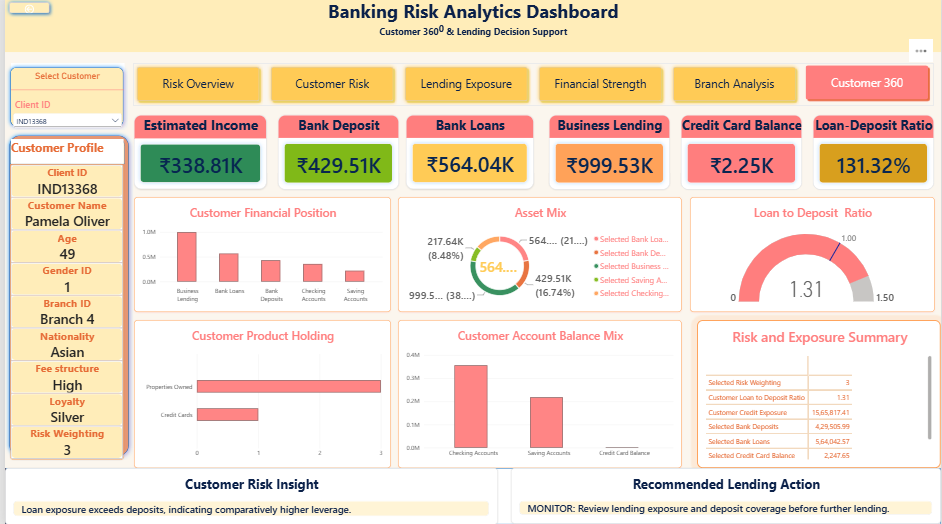

This screenshot's page, from the dashboard's own definition file:
{"tool":"powerbi","page":{"name":"Customer 360","canvas":[1920,1080],"ordinal":5},"visuals":[{"type":"shape","box":[0,0,1920,110.9],"z":0},{"type":"pageNavigator","box":[262.2,134.2,1643.4,86.7],"z":1000},{"type":"shape","box":[12.4,315.9,233.3,609],"z":2000},{"type":"shape","box":[0,272.9,263.1,675.5],"z":3000},{"type":"clusteredColumnChart","title":"Customer Financial Position","fields":{"Category":["Financial Metric.Metric"],"Y":["Measure.Selected Financial Value"]},"box":[263.7,407.2,527.5,236.3],"z":4000},{"type":"clusteredBarChart","title":"Customer Product Holding","fields":{"Category":["Product Metric.Product"],"Y":["Measure.Selected Product Count"]},"box":[263.7,660.4,527.5,303.8],"z":5000},{"type":"donutChart","title":"Asset Mix","fields":{"Y":["Measure.Selected Bank Loans","Measure.Selected Bank Deposits","Measure.Selected Business Lending","Measure.Selected Saving Accounts","Measure.Selected Checking Accounts"]},"box":[806,407.2,582.3,236.3],"z":6000},{"type":"pivotTable","title":"Risk and Exposure Summary","fields":{"Values":["Measure.Selected Risk Weighting","Measure.Customer Loan to Deposit Ratio","Measure.Customer Credit Exposure","Measure.Selected Bank Deposits","Measure.Selected Bank Loans","Measure.Selected Credit Card Balance","Measure.Selected Properties Owned"]},"box":[1419.6,660.1,500,303.8],"z":7000},{"type":"gauge","title":"Loan to Deposit  Ratio","fields":{"MaxValue":["Measure.Gauge Max"],"MinValue":["Measure.Gauge Min"],"TargetValue":["Measure.Gauge Target"],"Y":["Measure.Customer Loan to Deposit Ratio"]},"box":[1405.2,407.2,502.2,236.3],"z":8000},{"type":"textbox","box":[2.5,0,1917.5,52.5],"z":9000},{"type":"actionButton","box":[0,0,100,40],"z":10000},{"type":"shape","box":[12.4,134.2,233.3,119.7],"z":11000},{"type":"shape","box":[2.1,134.2,249.8,138.3],"z":12000},{"type":"slicer","title":"Select Customer","fields":{"Values":["Banking.Client ID"]},"box":[11.8,149.2,231.7,121.7],"z":13000},{"type":"shape","box":[10.3,289,235.4,51.6],"z":14000},{"type":"textbox","box":[12.8,289.2,230.6,51.2],"z":15000},{"type":"cardVisual","fields":{"Data":["Measure.Selected Client ID","Measure.Selected Customer Name","Measure.Selected Customer Age","Measure.Selected Gender ID","Measure.Selected Branch","Measure.Selected Nationality","Measure.Selected Fee Structure","Measure.Selected Loyalty","Measure.Selected Risk Weighting"]},"box":[9.8,339.7,233.7,606.8],"z":16000},{"type":"cardVisual","title":"Loan-Deposit Ratio","fields":{"Data":["Measure.Loan to Deposit Ratio"]},"box":[1657.8,239.5,247.7,152.8],"z":17000},{"type":"cardVisual","title":"Credit Card Balance","fields":{"Data":["Sum(Banking.Credit Card Balance)"]},"box":[1387.4,239.5,247.7,152.8],"z":18000},{"type":"cardVisual","title":"Business Lending ","fields":{"Data":["Sum(Banking.Business Lending)"]},"box":[1116.9,239.5,247.7,152.8],"z":19000},{"type":"cardVisual","title":"Bank Loans","fields":{"Data":["Sum(Banking.Bank Loans)"]},"box":[822.9,240.5,261.6,151.9],"z":20000},{"type":"cardVisual","title":"Bank Deposit","fields":{"Data":["Sum(Banking.Bank Deposits)"]},"box":[559.5,239.5,247.7,152.8],"z":21000},{"type":"cardVisual","title":"Estimated Income","fields":{"Data":["Sum(Banking.Estimated Income)"]},"box":[263.7,240.5,272.2,151.9],"z":22000},{"type":"clusteredColumnChart","title":"Customer Account Balance Mix","fields":{"Category":["Account Metric.Account Type"],"Y":["Measure.Selected Account Value"]},"box":[806,660.4,582.3,303.8],"z":23000},{"type":"shape","box":[0,964.1,1920,115.6],"z":24000},{"type":"shape","box":[2.1,964.2,983.2,113.9],"z":25000},{"type":"shape","box":[984.8,964.1,935.2,115.6],"z":26000},{"type":"cardVisual","title":"Customer Risk Insight","fields":{"Data":["Measure.Customer Risk Insight"]},"box":[0,964.2,1010.6,116],"z":27000},{"type":"cardVisual","title":"Recommended Lending Action","fields":{"Data":["Measure.Recommended Lending Action"]},"box":[1038.1,964.2,881.9,113.9],"z":28000},{"type":"textbox","box":[2.5,55,1917.5,55],"z":29000}]}

Visuals, with their boxes in screenshot pixels (x1, y1, x2, y2), scaled from the page's 1920x1080 canvas onto the 942x524 screenshot:
shape: [left=0, top=0, right=941, bottom=54]
pageNavigator: [left=129, top=65, right=935, bottom=107]
shape: [left=6, top=153, right=121, bottom=449]
shape: [left=0, top=132, right=129, bottom=460]
"Customer Financial Position" clusteredColumnChart: [left=129, top=198, right=388, bottom=312]
"Customer Product Holding" clusteredBarChart: [left=129, top=320, right=388, bottom=468]
"Asset Mix" donutChart: [left=395, top=198, right=681, bottom=312]
"Risk and Exposure Summary" pivotTable: [left=696, top=320, right=941, bottom=468]
"Loan to Deposit  Ratio" gauge: [left=689, top=198, right=936, bottom=312]
textbox: [left=1, top=0, right=941, bottom=25]
actionButton: [left=0, top=0, right=49, bottom=19]
shape: [left=6, top=65, right=121, bottom=123]
shape: [left=1, top=65, right=124, bottom=132]
"Select Customer" slicer: [left=6, top=72, right=119, bottom=131]
shape: [left=5, top=140, right=121, bottom=165]
textbox: [left=6, top=140, right=119, bottom=165]
cardVisual - Measure.Selected Client ID x Measure.Selected Customer Name: [left=5, top=165, right=119, bottom=459]
"Loan-Deposit Ratio" cardVisual: [left=813, top=116, right=935, bottom=190]
"Credit Card Balance" cardVisual: [left=681, top=116, right=802, bottom=190]
"Business Lending " cardVisual: [left=548, top=116, right=670, bottom=190]
"Bank Loans" cardVisual: [left=404, top=117, right=532, bottom=190]
"Bank Deposit" cardVisual: [left=275, top=116, right=396, bottom=190]
"Estimated Income" cardVisual: [left=129, top=117, right=263, bottom=190]
"Customer Account Balance Mix" clusteredColumnChart: [left=395, top=320, right=681, bottom=468]
shape: [left=0, top=468, right=941, bottom=523]
shape: [left=1, top=468, right=483, bottom=523]
shape: [left=483, top=468, right=941, bottom=523]
"Customer Risk Insight" cardVisual: [left=0, top=468, right=496, bottom=523]
"Recommended Lending Action" cardVisual: [left=509, top=468, right=941, bottom=523]
textbox: [left=1, top=27, right=941, bottom=53]
